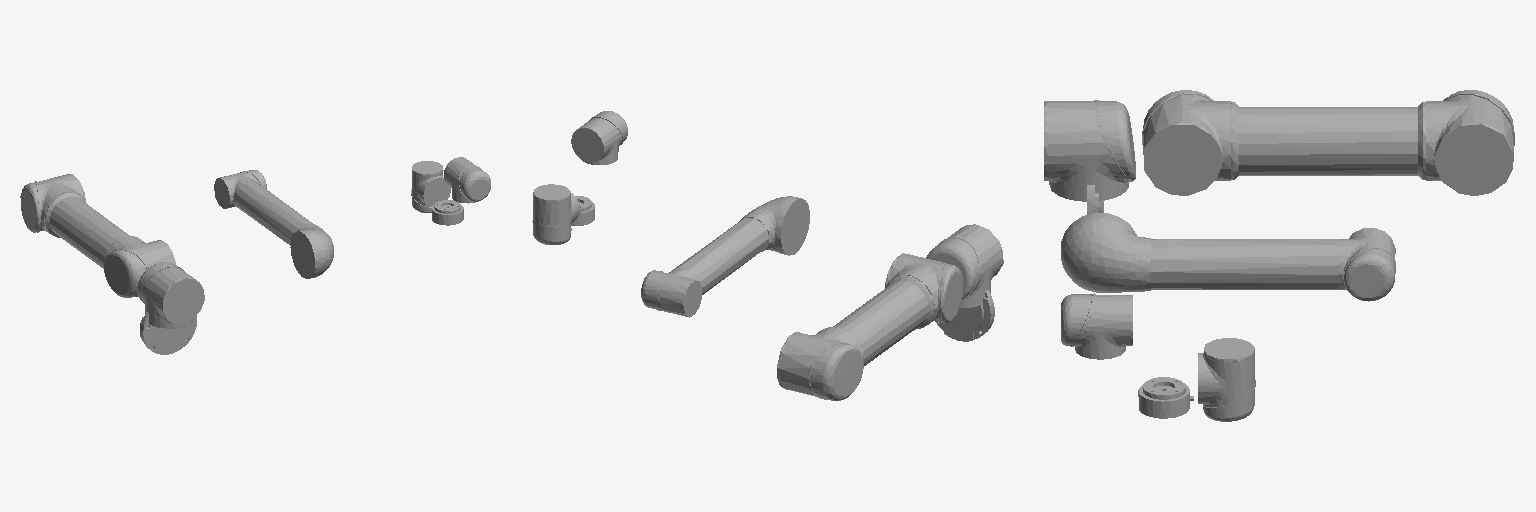
URDF robot description (ur5):
<?xml version="1.0" ?>
<!-- =================================================================================== -->
<!-- |    This document was autogenerated by xacro from ur5_robot.urdf.xacro           | -->
<!-- |    EDITING THIS FILE BY HAND IS NOT RECOMMENDED                                 | -->
<!-- =================================================================================== -->
<robot name="ur5" xmlns:xacro="http://ros.org/wiki/xacro">
  <link name="base_link">
    <visual>
      <geometry>
        <mesh filename="ur5/collision/base.obj"/>
      </geometry>
      <material name="LightGrey">
        <color rgba="0.7 0.7 0.7 1.0"/>
      </material>
    </visual>
    <collision>
      <geometry>
        <mesh filename="ur5/collision/base.obj"/>
      </geometry>
    </collision>
    <inertial>
      <mass value="4.0"/>
      <origin rpy="0 0 0" xyz="0.0 0.0 0.0"/>
      <inertia ixx="0.00443333156" ixy="0.0" ixz="0.0" iyy="0.00443333156" iyz="0.0" izz="0.0072"/>
    </inertial>
  </link>
  <joint name="shoulder_pan_joint" type="revolute">
    <parent link="base_link"/>
    <child link="shoulder_link"/>
    <origin rpy="0.0 0.0 0.0" xyz="0.0 0.0 0.089159"/>
    <axis xyz="0 0 1"/>
    <limit effort="150.0" lower="-6.2831853" upper="6.2831853" velocity="3.15"/>
    <dynamics damping="0.0" friction="0.0"/>
  </joint>
  <link name="shoulder_link">
    <visual>
      <geometry>
        <mesh filename="ur5/collision/shoulder.obj"/>
      </geometry>
      <material name="LightGrey">
        <color rgba="0.7 0.7 0.7 1.0"/>
      </material>
    </visual>
    <collision>
      <geometry>
        <mesh filename="ur5/collision/shoulder.obj"/>
      </geometry>
    </collision>
    <inertial>
      <mass value="3.7"/>
      <origin rpy="0 0 0" xyz="0.0 0.0 0.0"/>
      <inertia ixx="0.010267495893" ixy="0.0" ixz="0.0" iyy="0.010267495893" iyz="0.0" izz="0.00666"/>
    </inertial>
  </link>
  <joint name="shoulder_lift_joint" type="revolute">
    <parent link="shoulder_link"/>
    <child link="upper_arm_link"/>
    <origin rpy="0.0 1.570796325 0.0" xyz="0.0 0.13585 0.0"/>
    <axis xyz="0 1 0"/>
    <limit effort="150.0" lower="-6.2831853" upper="6.2831853" velocity="3.15"/>
    <dynamics damping="0.0" friction="0.0"/>
  </joint>
  <link name="upper_arm_link">
    <visual>
      <geometry>
        <mesh filename="ur5/collision/upperarm.obj"/>
      </geometry>
      <material name="LightGrey">
        <color rgba="0.7 0.7 0.7 1.0"/>
      </material>
    </visual>
    <collision>
      <geometry>
        <mesh filename="ur5/collision/upperarm.obj"/>
      </geometry>
    </collision>
    <inertial>
      <mass value="8.393"/>
      <origin rpy="0 0 0" xyz="0.0 0.0 0.28"/>
      <inertia ixx="0.22689067591" ixy="0.0" ixz="0.0" iyy="0.22689067591" iyz="0.0" izz="0.0151074"/>
    </inertial>
  </link>
  <joint name="elbow_joint" type="revolute">
    <parent link="upper_arm_link"/>
    <child link="forearm_link"/>
    <origin rpy="0.0 0.0 0.0" xyz="0.0 -0.1197 0.425"/>
    <axis xyz="0 1 0"/>
    <limit effort="150.0" lower="-6.2831853" upper="6.2831853" velocity="3.15"/>
    <dynamics damping="0.0" friction="0.0"/>
  </joint>
  <link name="forearm_link">
    <visual>
      <geometry>
        <mesh filename="ur5/collision/forearm.obj"/>
      </geometry>
      <material name="LightGrey">
        <color rgba="0.7 0.7 0.7 1.0"/>
      </material>
    </visual>
    <collision>
      <geometry>
        <mesh filename="ur5/collision/forearm.obj"/>
      </geometry>
    </collision>
    <inertial>
      <mass value="2.275"/>
      <origin rpy="0 0 0" xyz="0.0 0.0 0.25"/>
      <inertia ixx="0.049443313556" ixy="0.0" ixz="0.0" iyy="0.049443313556" iyz="0.0" izz="0.004095"/>
    </inertial>
  </link>
  <joint name="wrist_1_joint" type="revolute">
    <parent link="forearm_link"/>
    <child link="wrist_1_link"/>
    <origin rpy="0.0 1.570796325 0.0" xyz="0.0 0.0 0.39225"/>
    <axis xyz="0 1 0"/>
    <limit effort="28.0" lower="-6.2831853" upper="6.2831853" velocity="3.2"/>
    <dynamics damping="0.0" friction="0.0"/>
  </joint>
  <link name="wrist_1_link">
    <visual>
      <geometry>
        <mesh filename="ur5/collision/wrist1.obj"/>
      </geometry>
      <material name="LightGrey">
        <color rgba="0.7 0.7 0.7 1.0"/>
      </material>
    </visual>
    <collision>
      <geometry>
        <mesh filename="ur5/collision/wrist1.obj"/>
      </geometry>
    </collision>
    <inertial>
      <mass value="1.219"/>
      <origin rpy="0 0 0" xyz="0.0 0.0 0.0"/>
      <inertia ixx="0.111172755531" ixy="0.0" ixz="0.0" iyy="0.111172755531" iyz="0.0" izz="0.21942"/>
    </inertial>
  </link>
  <joint name="wrist_2_joint" type="revolute">
    <parent link="wrist_1_link"/>
    <child link="wrist_2_link"/>
    <origin rpy="0.0 0.0 0.0" xyz="0.0 0.093 0.0"/>
    <axis xyz="0 0 1"/>
    <limit effort="28.0" lower="-6.2831853" upper="6.2831853" velocity="3.2"/>
    <dynamics damping="0.0" friction="0.0"/>
  </joint>
  <link name="wrist_2_link">
    <visual>
      <geometry>
        <mesh filename="ur5/collision/wrist2.obj"/>
      </geometry>
      <material name="LightGrey">
        <color rgba="0.7 0.7 0.7 1.0"/>
      </material>
    </visual>
    <collision>
      <geometry>
        <mesh filename="ur5/collision/wrist2.obj"/>
      </geometry>
    </collision>
    <inertial>
      <mass value="1.219"/>
      <origin rpy="0 0 0" xyz="0.0 0.0 0.0"/>
      <inertia ixx="0.111172755531" ixy="0.0" ixz="0.0" iyy="0.111172755531" iyz="0.0" izz="0.21942"/>
    </inertial>
  </link>
  <joint name="wrist_3_joint" type="revolute">
    <parent link="wrist_2_link"/>
    <child link="wrist_3_link"/>
    <origin rpy="0.0 0.0 0.0" xyz="0.0 0.0 0.09465"/>
    <axis xyz="0 1 0"/>
    <limit effort="28.0" lower="-6.2831853" upper="6.2831853" velocity="3.2"/>
    <dynamics damping="0.0" friction="0.0"/>
  </joint>
  <link name="wrist_3_link">
    <visual>
      <geometry>
        <mesh filename="ur5/collision/wrist3.obj"/>
      </geometry>
      <material name="LightGrey">
        <color rgba="0.7 0.7 0.7 1.0"/>
      </material>
    </visual>
    <collision>
      <geometry>
        <mesh filename="ur5/collision/wrist3.obj"/>
      </geometry>
    </collision>
    <inertial>
      <mass value="0.1879"/>
      <origin rpy="0 0 0" xyz="0.0 0.0 0.0"/>
      <inertia ixx="0.0171364731454" ixy="0.0" ixz="0.0" iyy="0.0171364731454" iyz="0.0" izz="0.033822"/>
    </inertial>
  </link>


</robot>

--- Render facts (derived) ---
The picture shows the robot from 3 angles, left to right: view 1: azimuth 30°, elevation 25°; view 2: azimuth 150°, elevation 25°; view 3: azimuth 270°, elevation 25°; orthographic projection.
Robot: ur5 — 7 links, 6 joints (6 revolute); root link base_link; default pose: every joint at zero.
Visible links, largest first — view 1: upper_arm_link, forearm_link, shoulder_link, wrist_1_link, wrist_2_link, base_link, wrist_3_link; view 2: upper_arm_link, forearm_link, shoulder_link, wrist_2_link, wrist_1_link, base_link; view 3: upper_arm_link, forearm_link, shoulder_link, wrist_2_link, wrist_1_link, wrist_3_link.
Boxes of the visible links, bbox=[...] form: upper_arm_link: bbox=[20, 174, 176, 297]; forearm_link: bbox=[214, 170, 333, 278]; shoulder_link: bbox=[137, 262, 204, 328]; wrist_1_link: bbox=[444, 157, 490, 203]; wrist_2_link: bbox=[411, 161, 450, 212]; base_link: bbox=[140, 312, 196, 354]; wrist_3_link: bbox=[432, 200, 463, 225]; upper_arm_link: bbox=[777, 253, 962, 400]; forearm_link: bbox=[641, 196, 809, 317]; shoulder_link: bbox=[926, 224, 1003, 307]; wrist_2_link: bbox=[532, 184, 579, 244]; wrist_1_link: bbox=[571, 111, 627, 164]; base_link: bbox=[935, 290, 994, 341]; upper_arm_link: bbox=[1142, 90, 1514, 195]; forearm_link: bbox=[1061, 213, 1395, 301]; shoulder_link: bbox=[1044, 100, 1135, 201]; wrist_2_link: bbox=[1198, 338, 1255, 421]; wrist_1_link: bbox=[1061, 293, 1132, 359]; wrist_3_link: bbox=[1138, 377, 1193, 418].
Bounding box of the posed robot: 0.9297 × 0.6859 × 0.2952 m (x, y, z).
7 mesh visuals loaded from 7 distinct referenced files (7 OBJ).